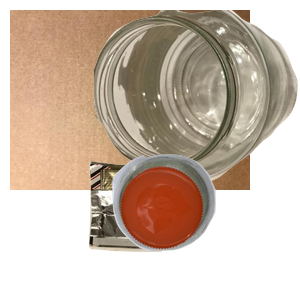cardboard: (10, 10, 250, 190)
glass: (94, 10, 300, 184)
plastic: (110, 152, 300, 300)
trash: (86, 158, 242, 300)
